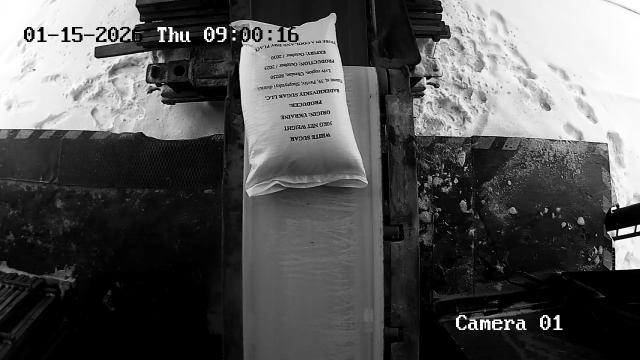bag: (230, 12, 368, 197)
